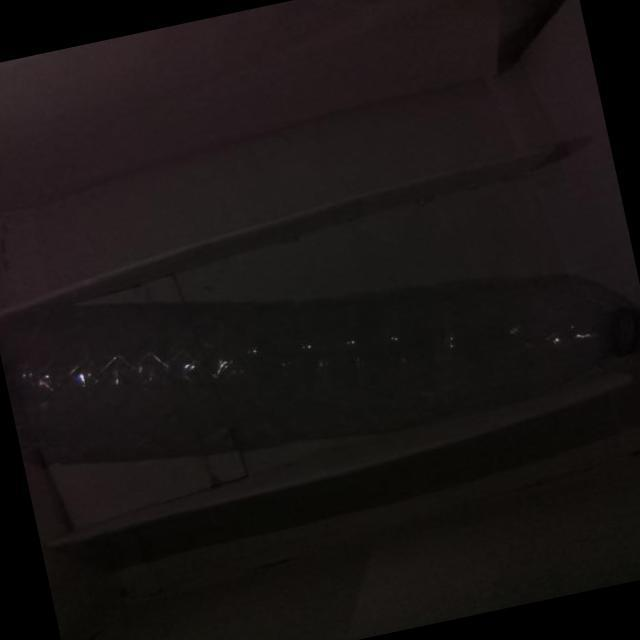good: (0, 172, 640, 525)
